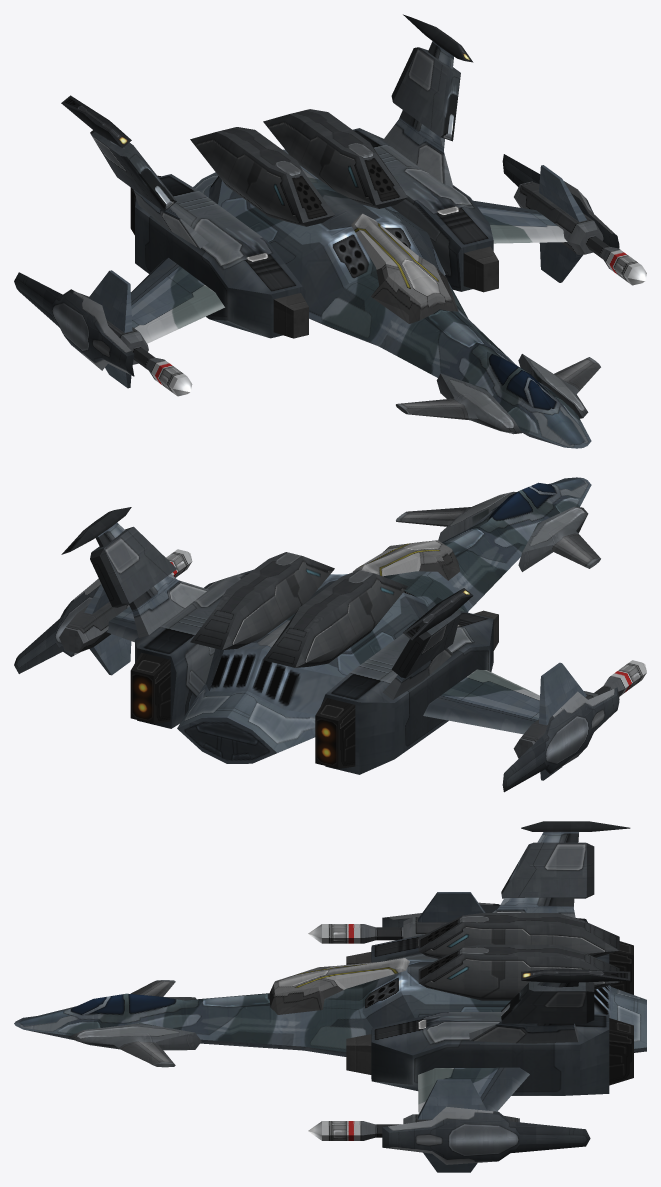
Rendered from enemy_sol_fighter.fbx.
3 views of the same model, one above another, from view 1: azimuth 30°, elevation 25°; view 2: azimuth 150°, elevation 25°; view 3: azimuth 270°, elevation 25° (orthographic). The views are drawn at different scales.
Visible parts, largest first — view 1: polySurface3; view 2: polySurface3; view 3: polySurface3.
Boxes of the visible parts, box(x1,y1,x2,y2) form: polySurface3: box(14, 14, 646, 448); polySurface3: box(14, 477, 646, 792); polySurface3: box(14, 821, 646, 1172).
Size of the model in its own units: 2.46 by 0.9708 by 3.03.
1 material, 1 textured.
